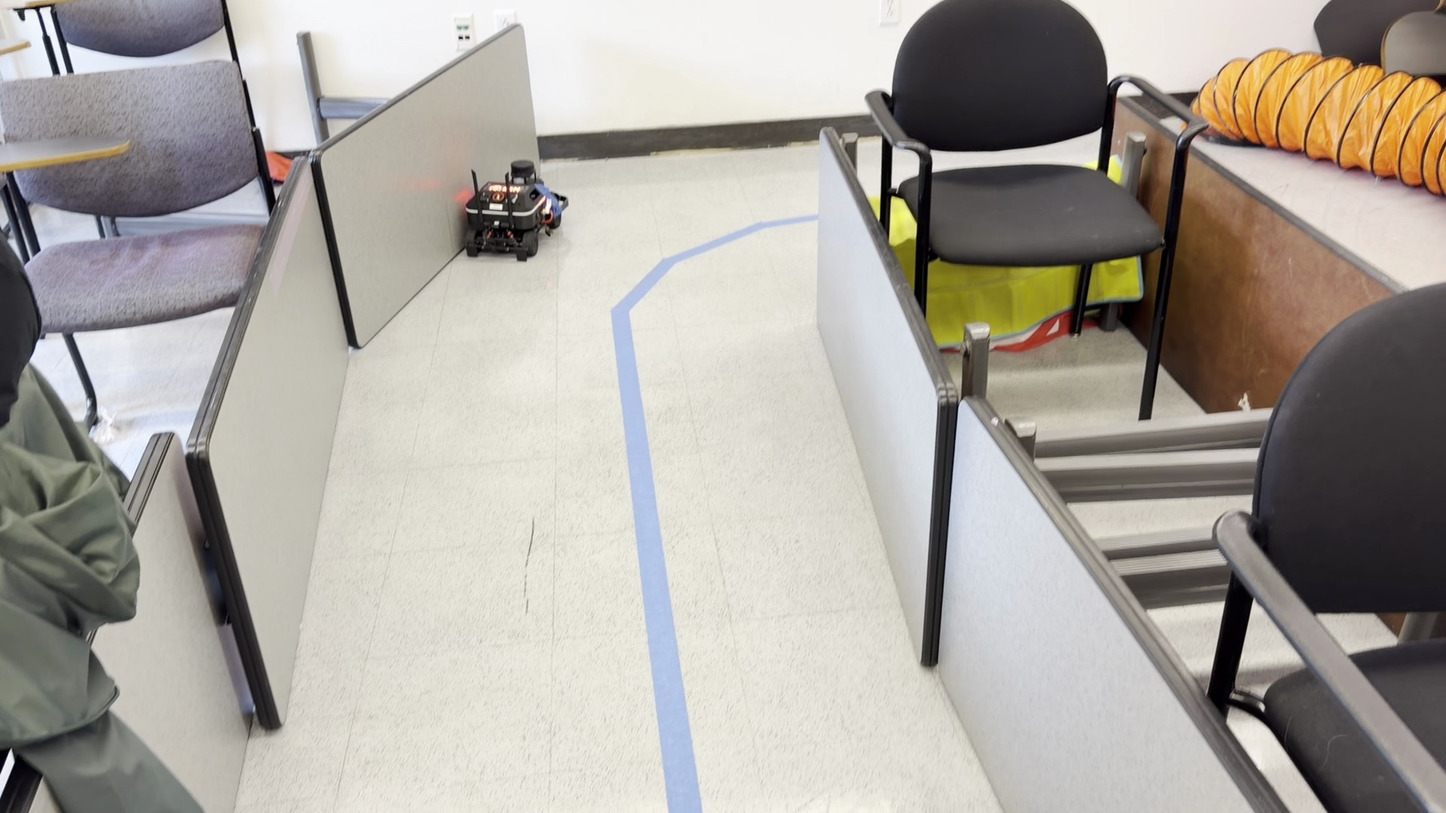racecar: (460, 159, 563, 261)
